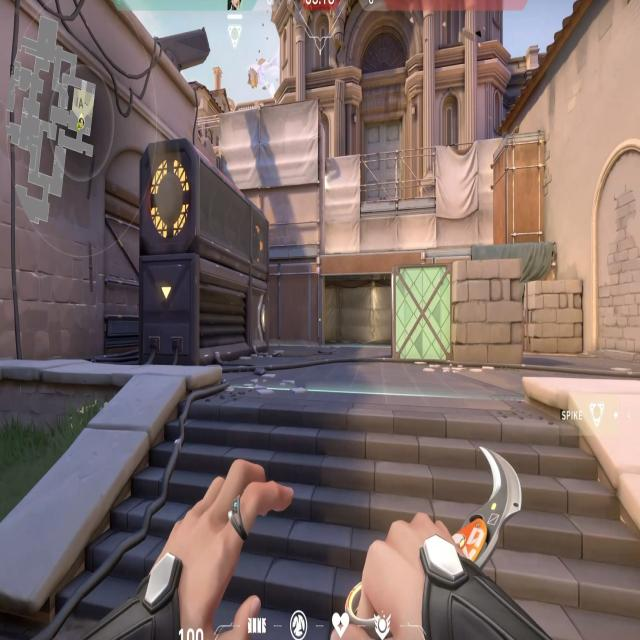A_Heaven_Box: (492, 129, 550, 245)
A_Heaven_Wall: (220, 125, 327, 253)
A_Hell: (306, 256, 437, 358)
A_Site_Box: (391, 260, 524, 366)
